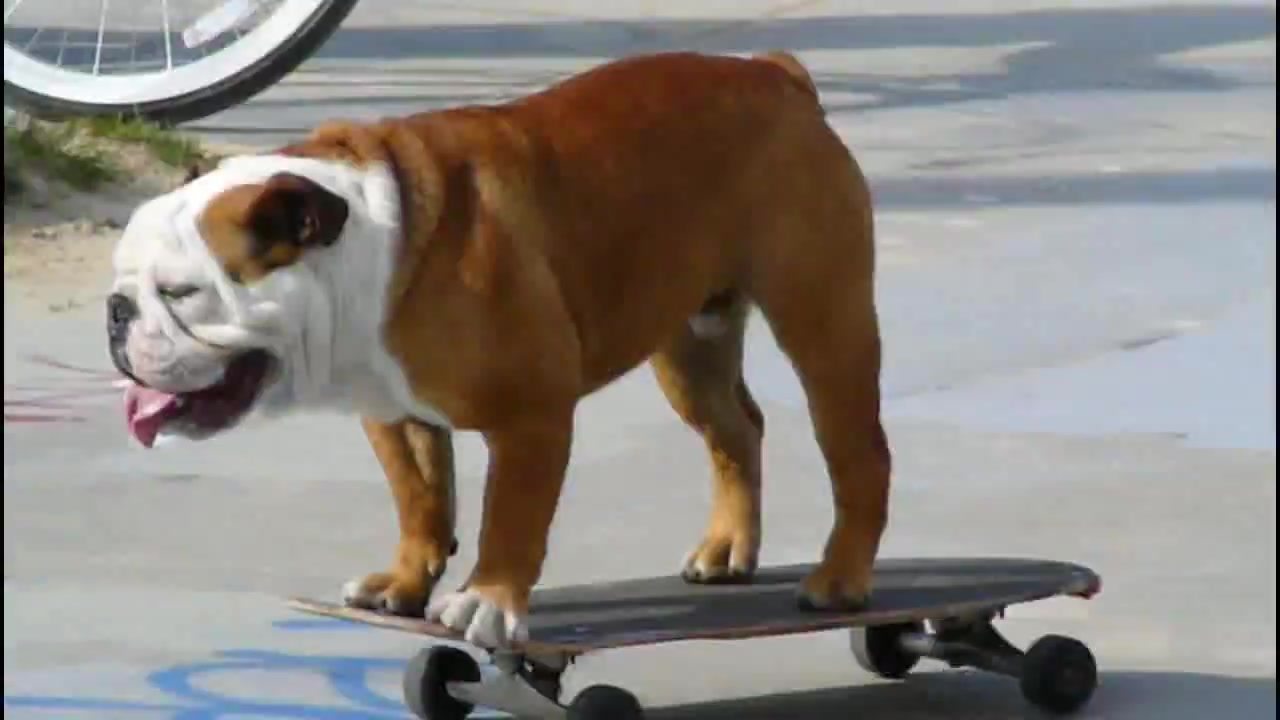dog: (107, 43, 894, 653)
